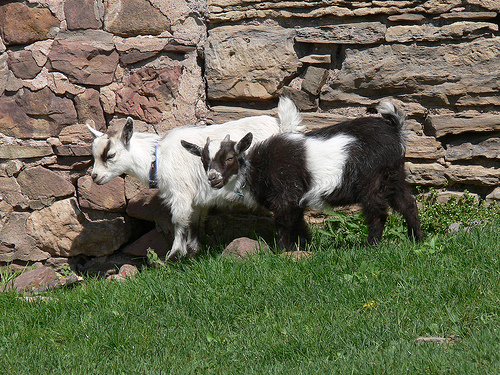goat: (179, 101, 424, 250), (84, 97, 304, 261)
